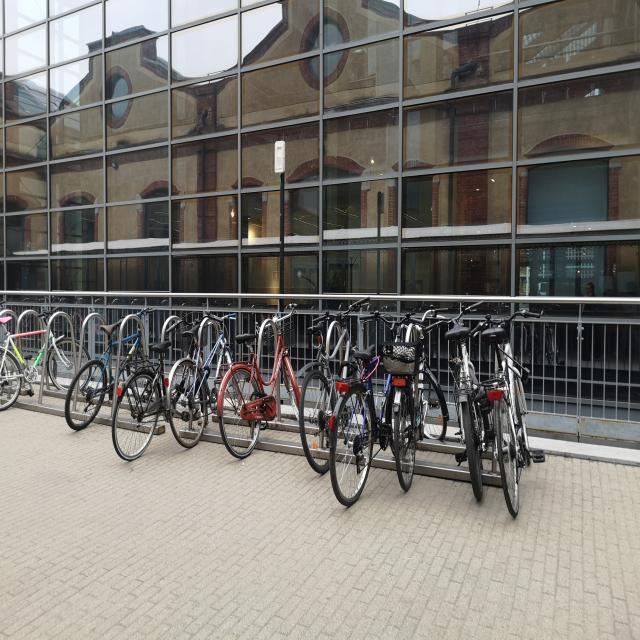Bicycle: (483, 300, 562, 525), (335, 294, 415, 500), (0, 271, 93, 440), (225, 278, 306, 464), (119, 296, 201, 450), (302, 278, 369, 465), (392, 292, 452, 484), (436, 280, 488, 500), (75, 289, 151, 424), (178, 298, 248, 437)
